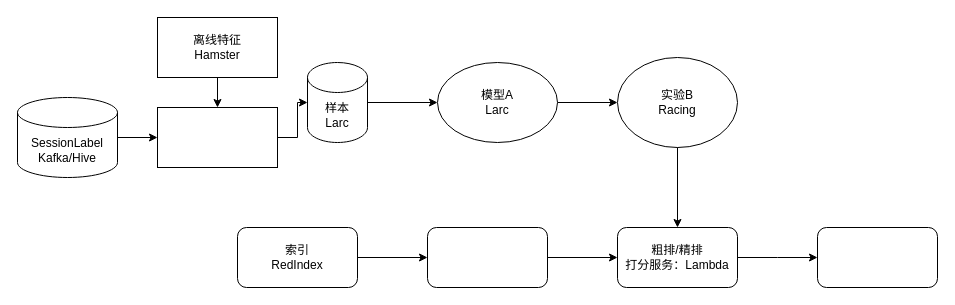
Some shapes in this 955 by 305 pixel diagram are drawn without their labels. The shapes that lost their labels are listed below. From the top down, each one's box as (x1, y1, x2, y2) in pixels, then its label:
(156, 106, 278, 168): 实时作业 Larc
(426, 226, 548, 288): 召回 LVE/LSE/LRE
(816, 226, 938, 288): 策略
